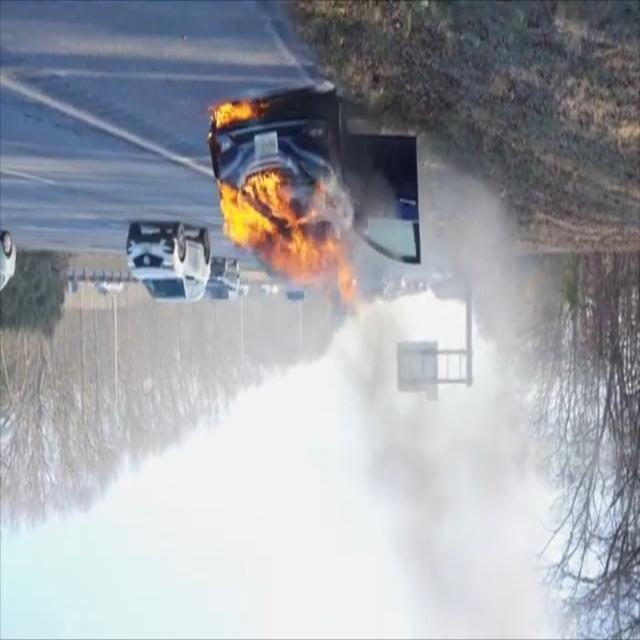fire: (206, 100, 368, 322)
